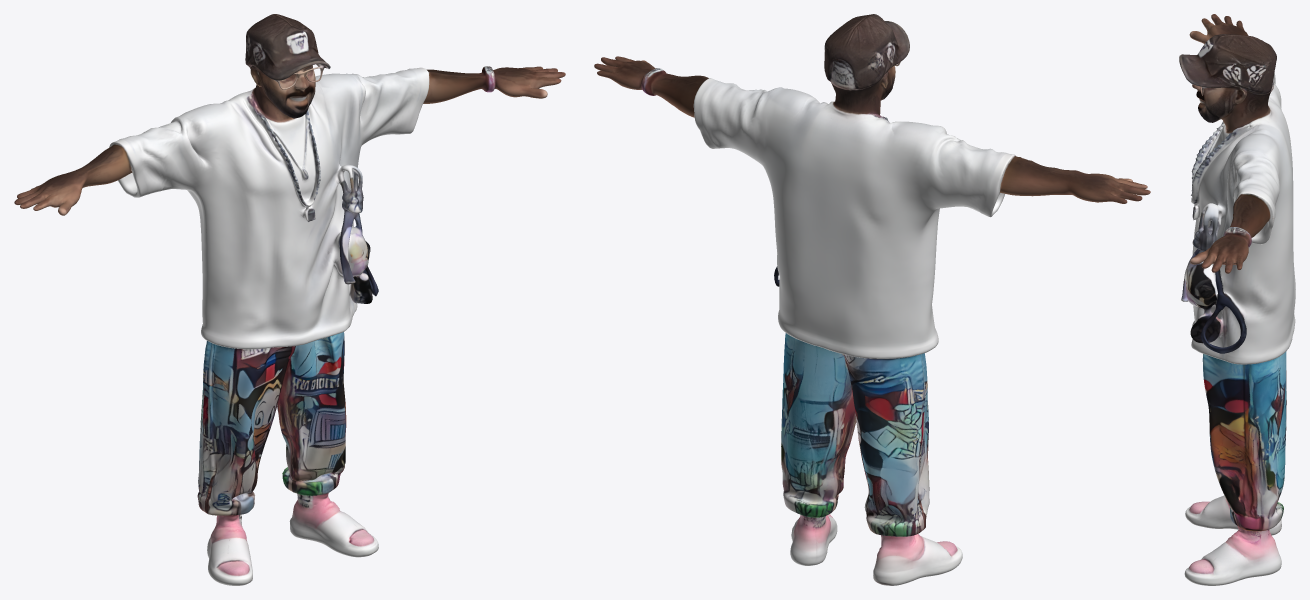
The model's file is white_top_for_mixamo.fbx.
The picture shows the model from 3 angles, left to right: view 1: azimuth 30°, elevation 25°; view 2: azimuth 150°, elevation 25°; view 3: azimuth 270°, elevation 25°; orthographic projection. The views are drawn at different scales.
Parts seen in each view (by area): view 1: model; view 2: model; view 3: model.
Boxes of the visible parts, box(x1,y1,x2,y2) form: model: box(14, 14, 565, 585); model: box(594, 14, 1150, 585); model: box(1179, 14, 1295, 585).
Bounding box in the file's own units: 1.9 × 1.78 × 0.3641.
1 material, 1 textured.
